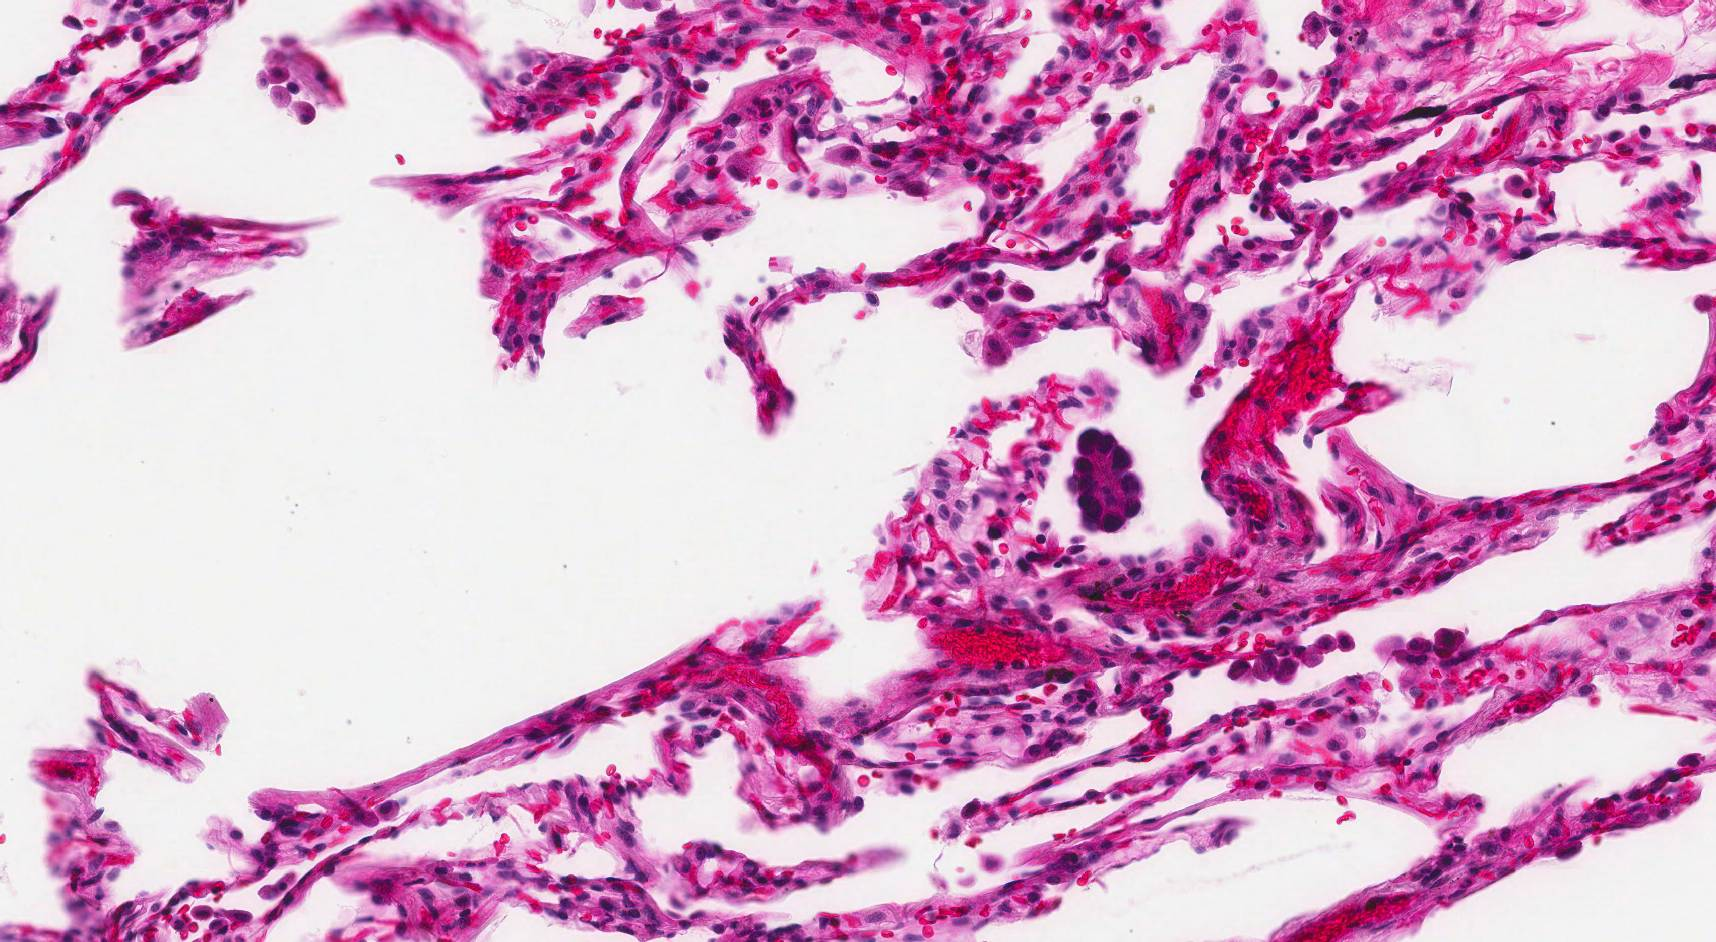stas: (1067, 428, 1146, 536)
